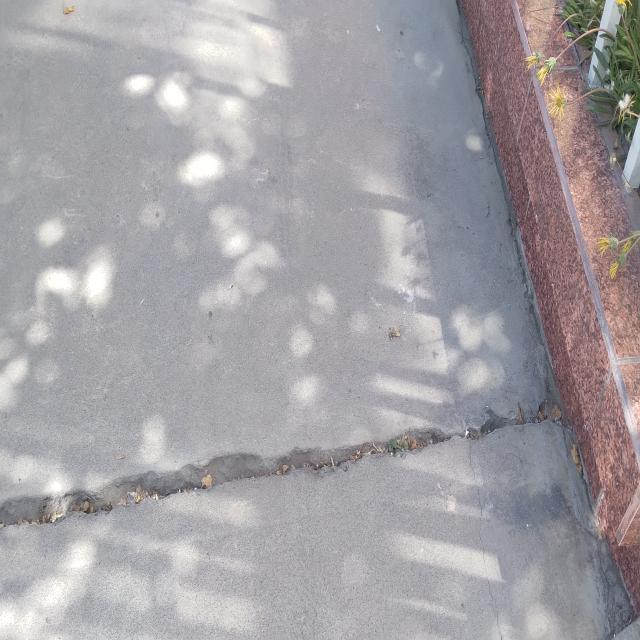bump: (0, 395, 585, 531)
